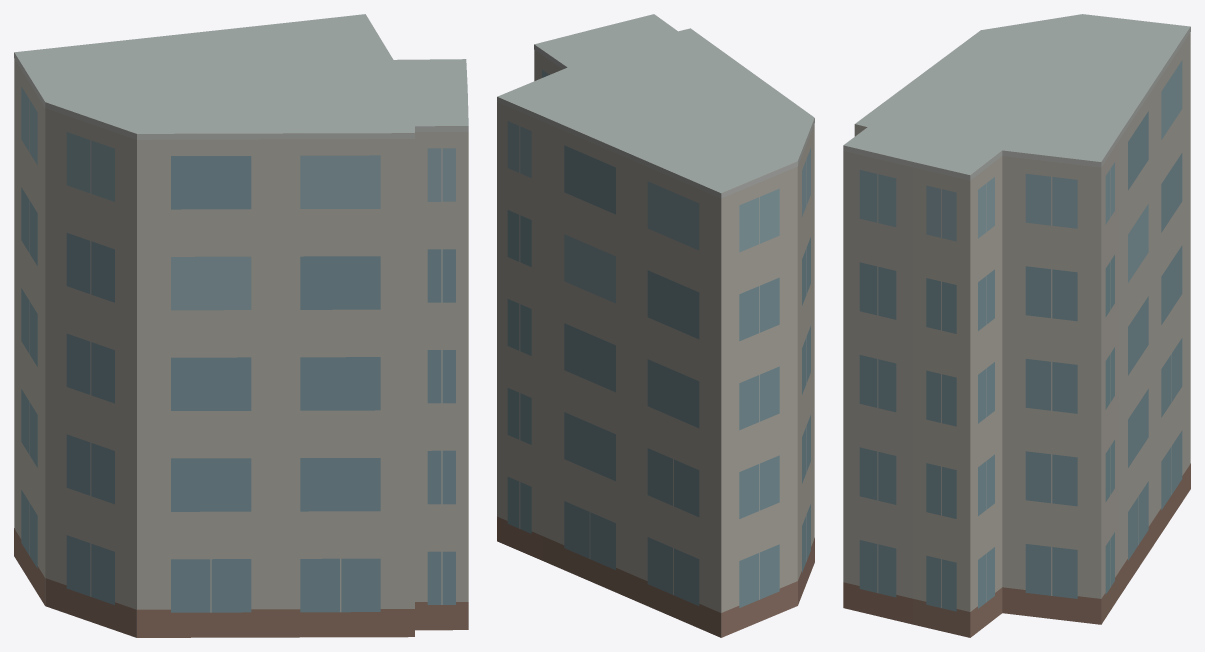
File: survey-upis-32656083.glb
3 views of the same model, side by side, from view 1: azimuth 30°, elevation 25°; view 2: azimuth 150°, elevation 25°; view 3: azimuth 270°, elevation 25° (orthographic). The views are drawn at different scales.
Parts seen in each view (by area): view 1: survey-upis-32656083.tmp; view 2: survey-upis-32656083.tmp; view 3: survey-upis-32656083.tmp.
Boxes of the visible parts, x1,y1,x2,y2 form: survey-upis-32656083.tmp: (14,14,468,637); survey-upis-32656083.tmp: (497,14,814,637); survey-upis-32656083.tmp: (843,14,1190,637).
Bounding box in the file's own units: 15.44 × 20.65 × 14.06.
